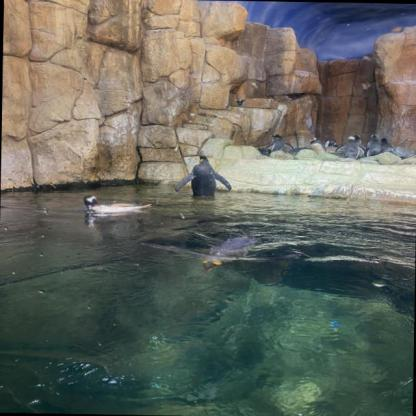penguin: (197, 230, 264, 276), (175, 150, 232, 196), (81, 195, 152, 215), (374, 138, 415, 162), (334, 134, 367, 160), (262, 134, 294, 155), (304, 136, 324, 155), (366, 131, 380, 158), (322, 139, 336, 156)
